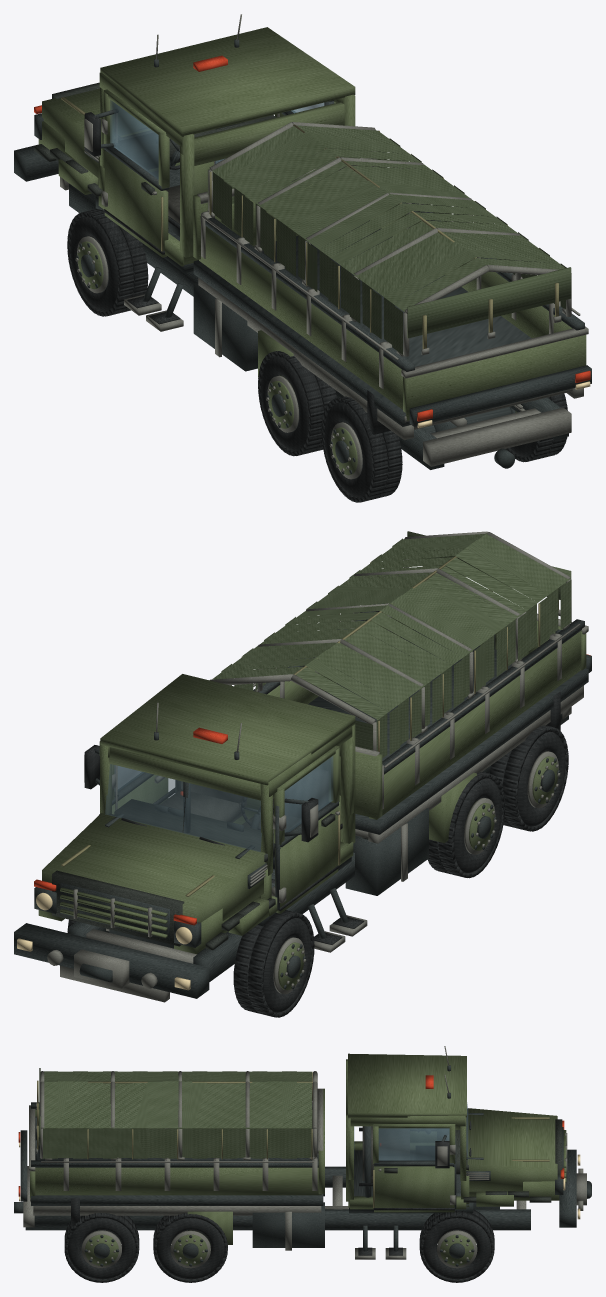
3 views of the same model, one above another, from view 1: azimuth 30°, elevation 25°; view 2: azimuth 150°, elevation 25°; view 3: azimuth 270°, elevation 25° (orthographic). The views are drawn at different scales.
Visible parts, largest first — view 1: VIS_Canvas_RoofLeft, VIS_Cab_Roof_Crowned, VIS_Canvas_RoofRight, VIS_Bed_LowerSidePanel, VIS_Bed_Floor, VIS_Canvas_WrinkledSideSheets, VIS_Bed_RearTailgate_Display, VIS_Canvas_RearFlap, VIS_Rear_TowCrossbar, VIS_Door_LowerSkinnedPanel_Left, VIS_Bed_RearLampCarrier, VIS_Tire_OffsetTreadLugs_-1_-2.85 (+32 smaller); view 2: VIS_Canvas_RoofLeft, VIS_Cab_Roof_Crowned, VIS_Cab_Bonnet_Hood, VIS_Canvas_RoofRight, VIS_Bed_LowerSidePanel, VIS_Windshield_ActualGlazing, VIS_Canvas_WrinkledSideSheets, VIS_Bed_Floor, VIS_Bumper_Steel, VIS_FuelTank_Body, VIS_Tire_OffsetTreadLugs_-1_-2.85, VIS_Door_LowerSkinnedPanel_Left (+39 smaller); view 3: VIS_Canvas_RoofRight, VIS_Canvas_WrinkledSideSheets, VIS_Bed_LowerSidePanel, VIS_Cab_Roof_Crowned, VIS_Cab_Bonnet_Hood, VIS_Frame_MainRails, VIS_Bed_Floor, VIS_Door_LowerSkinnedPanel_Right, VIS_Canvas_RoofLeft, VIS_FuelTank_Body, VIS_Bed_Subframe, VIS_Tire_HeavySidewall_1_-2.85 (+43 smaller).
Part boxes in pixels (x1,y1,x2,y2): VIS_Canvas_RoofLeft: (212, 126, 485, 311); VIS_Cab_Roof_Crowned: (100, 27, 355, 136); VIS_Canvas_RoofRight: (297, 125, 565, 269); VIS_Bed_LowerSidePanel: (199, 204, 572, 409); VIS_Bed_Floor: (193, 220, 531, 426); VIS_Canvas_WrinkledSideSheets: (212, 138, 566, 354); VIS_Bed_RearTailgate_Display: (403, 334, 586, 420); VIS_Canvas_RearFlap: (407, 267, 571, 338); VIS_Rear_TowCrossbar: (423, 407, 571, 466); VIS_Door_LowerSkinnedPanel_Left: (104, 151, 168, 257); VIS_Bed_RearLampCarrier: (409, 365, 591, 426); VIS_Tire_OffsetTreadLugs_-1_-2.85: (67, 209, 148, 316); VIS_Canvas_RoofLeft: (296, 533, 569, 719); VIS_Cab_Roof_Crowned: (100, 674, 355, 785); VIS_Cab_Bonnet_Hood: (42, 813, 265, 922); VIS_Canvas_RoofRight: (212, 533, 486, 679); VIS_Bed_LowerSidePanel: (267, 606, 581, 819); VIS_Windshield_ActualGlazing: (105, 764, 261, 851); VIS_Canvas_WrinkledSideSheets: (213, 538, 571, 758); VIS_Bed_Floor: (308, 629, 588, 834); VIS_Bumper_Steel: (14, 923, 209, 998); VIS_FuelTank_Body: (345, 808, 428, 895); VIS_Tire_OffsetTreadLugs_-1_-2.85: (233, 910, 314, 1017); VIS_Door_LowerSkinnedPanel_Left: (275, 807, 338, 913); VIS_Canvas_RoofRight: (43, 1081, 311, 1128); VIS_Canvas_WrinkledSideSheets: (43, 1071, 311, 1158); VIS_Bed_LowerSidePanel: (35, 1109, 321, 1195); VIS_Cab_Roof_Crowned: (348, 1053, 466, 1118); VIS_Cab_Bonnet_Hood: (467, 1108, 557, 1191); VIS_Frame_MainRails: (25, 1166, 530, 1230); VIS_Bed_Floor: (31, 1137, 323, 1205); VIS_Door_LowerSkinnedPanel_Right: (374, 1165, 454, 1212); VIS_Canvas_RoofLeft: (44, 1071, 311, 1081); VIS_FuelTank_Body: (252, 1194, 324, 1247); VIS_Bed_Subframe: (33, 1206, 321, 1215); VIS_Tire_HeavySidewall_1_-2.85: (423, 1218, 491, 1279).
Bounding box in the file's own units: 2.98 × 3.41 × 9.44.
11 materials, 11 textured.
